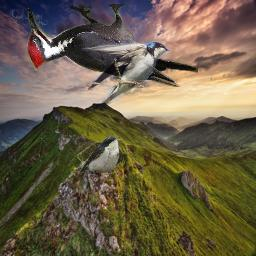Swallow: (81, 40, 170, 108), (79, 136, 123, 180)
Woodpecker: (27, 4, 198, 87)
